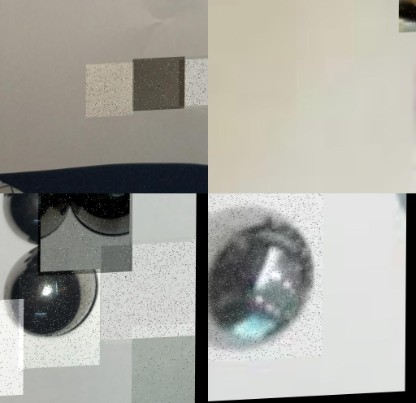ironball: (208, 193, 322, 365), (100, 244, 195, 343), (37, 193, 132, 278), (18, 271, 99, 370), (131, 327, 195, 402), (0, 214, 33, 308), (132, 59, 184, 113), (85, 65, 133, 119), (0, 300, 23, 400), (178, 60, 208, 109), (191, 240, 196, 348)
